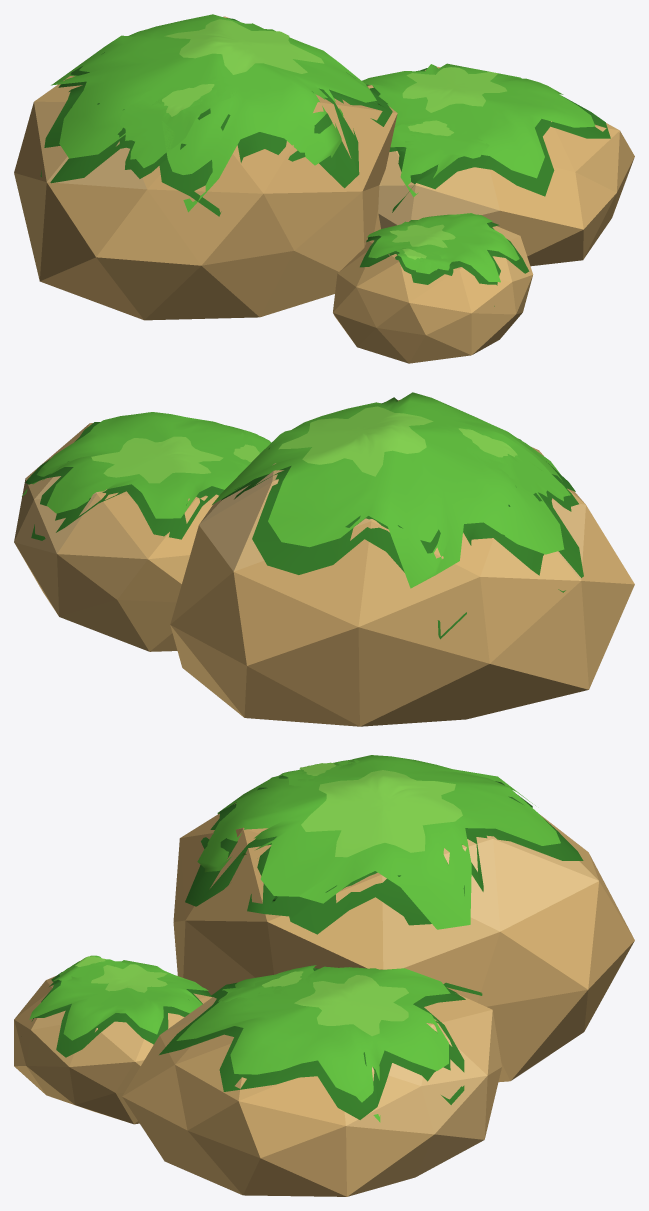
Rendered from rock_7_cap.glb.
The picture shows the model from 3 angles, top to bottom: view 1: azimuth 30°, elevation 25°; view 2: azimuth 150°, elevation 25°; view 3: azimuth 270°, elevation 25°; orthographic projection. The views are drawn at different scales.
Visible parts, largest first — view 1: rock_7_cap; view 2: rock_7_cap; view 3: rock_7_cap.
Boxes of the visible parts, x1,y1,x2,y2 form: rock_7_cap: (14,14,634,363); rock_7_cap: (14,392,634,726); rock_7_cap: (14,755,634,1196).
Bounding box in the file's own units: 2.57 × 1.05 × 2.29.
